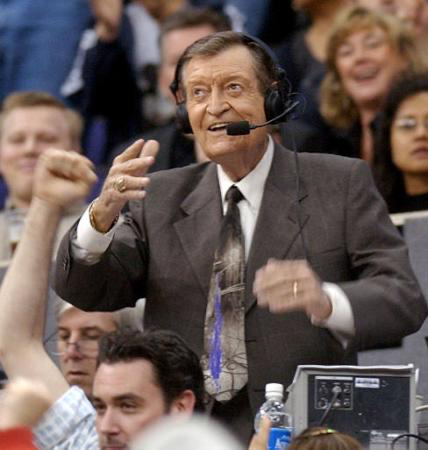Face: (184, 63, 268, 158), (48, 312, 117, 394), (1, 113, 62, 204), (333, 28, 396, 98), (91, 370, 155, 437), (396, 95, 426, 173)
